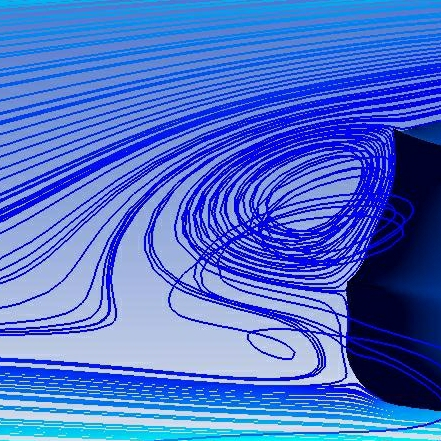vortox: (178, 123, 395, 284)
